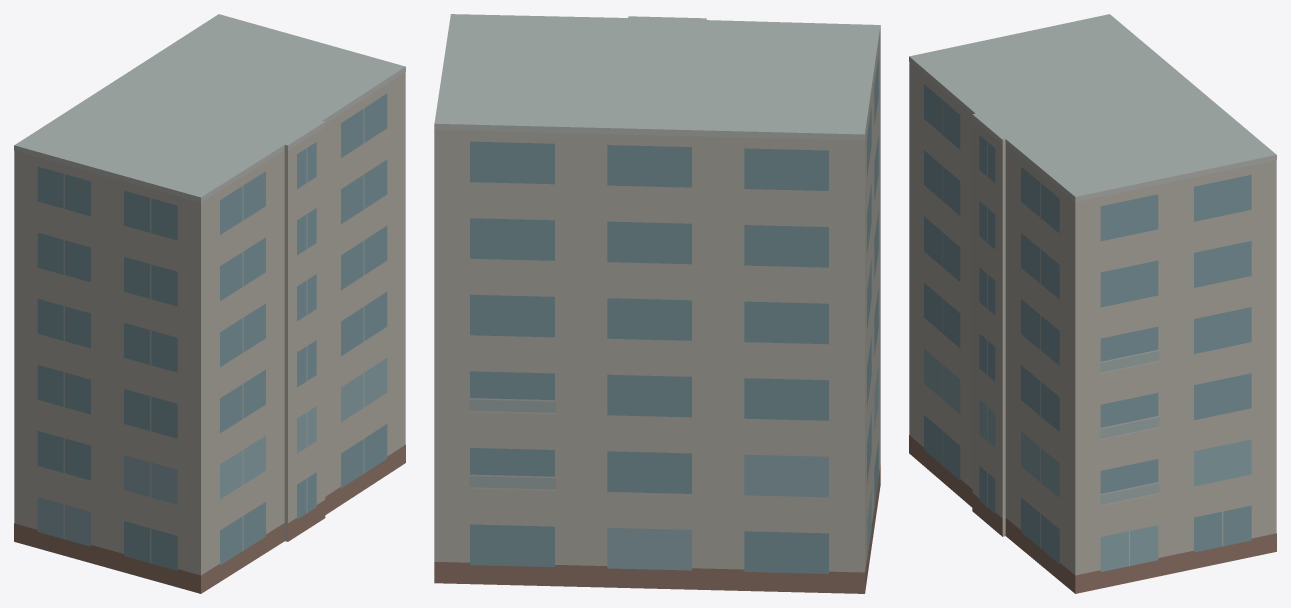
The model's file is survey-upis-32707551.glb.
3 views of the same model, side by side, from view 1: azimuth 30°, elevation 25°; view 2: azimuth 150°, elevation 25°; view 3: azimuth 270°, elevation 25° (orthographic). The views are drawn at different scales.
Visible parts, largest first — view 1: survey-upis-32707551.tmp; view 2: survey-upis-32707551.tmp; view 3: survey-upis-32707551.tmp.
Boxes of the visible parts, x1,y1,x2,y2 form: survey-upis-32707551.tmp: [14, 14, 405, 593]; survey-upis-32707551.tmp: [434, 14, 880, 593]; survey-upis-32707551.tmp: [909, 14, 1276, 593].
Size of the model in its own units: 18.1 by 18.3 by 15.37.
